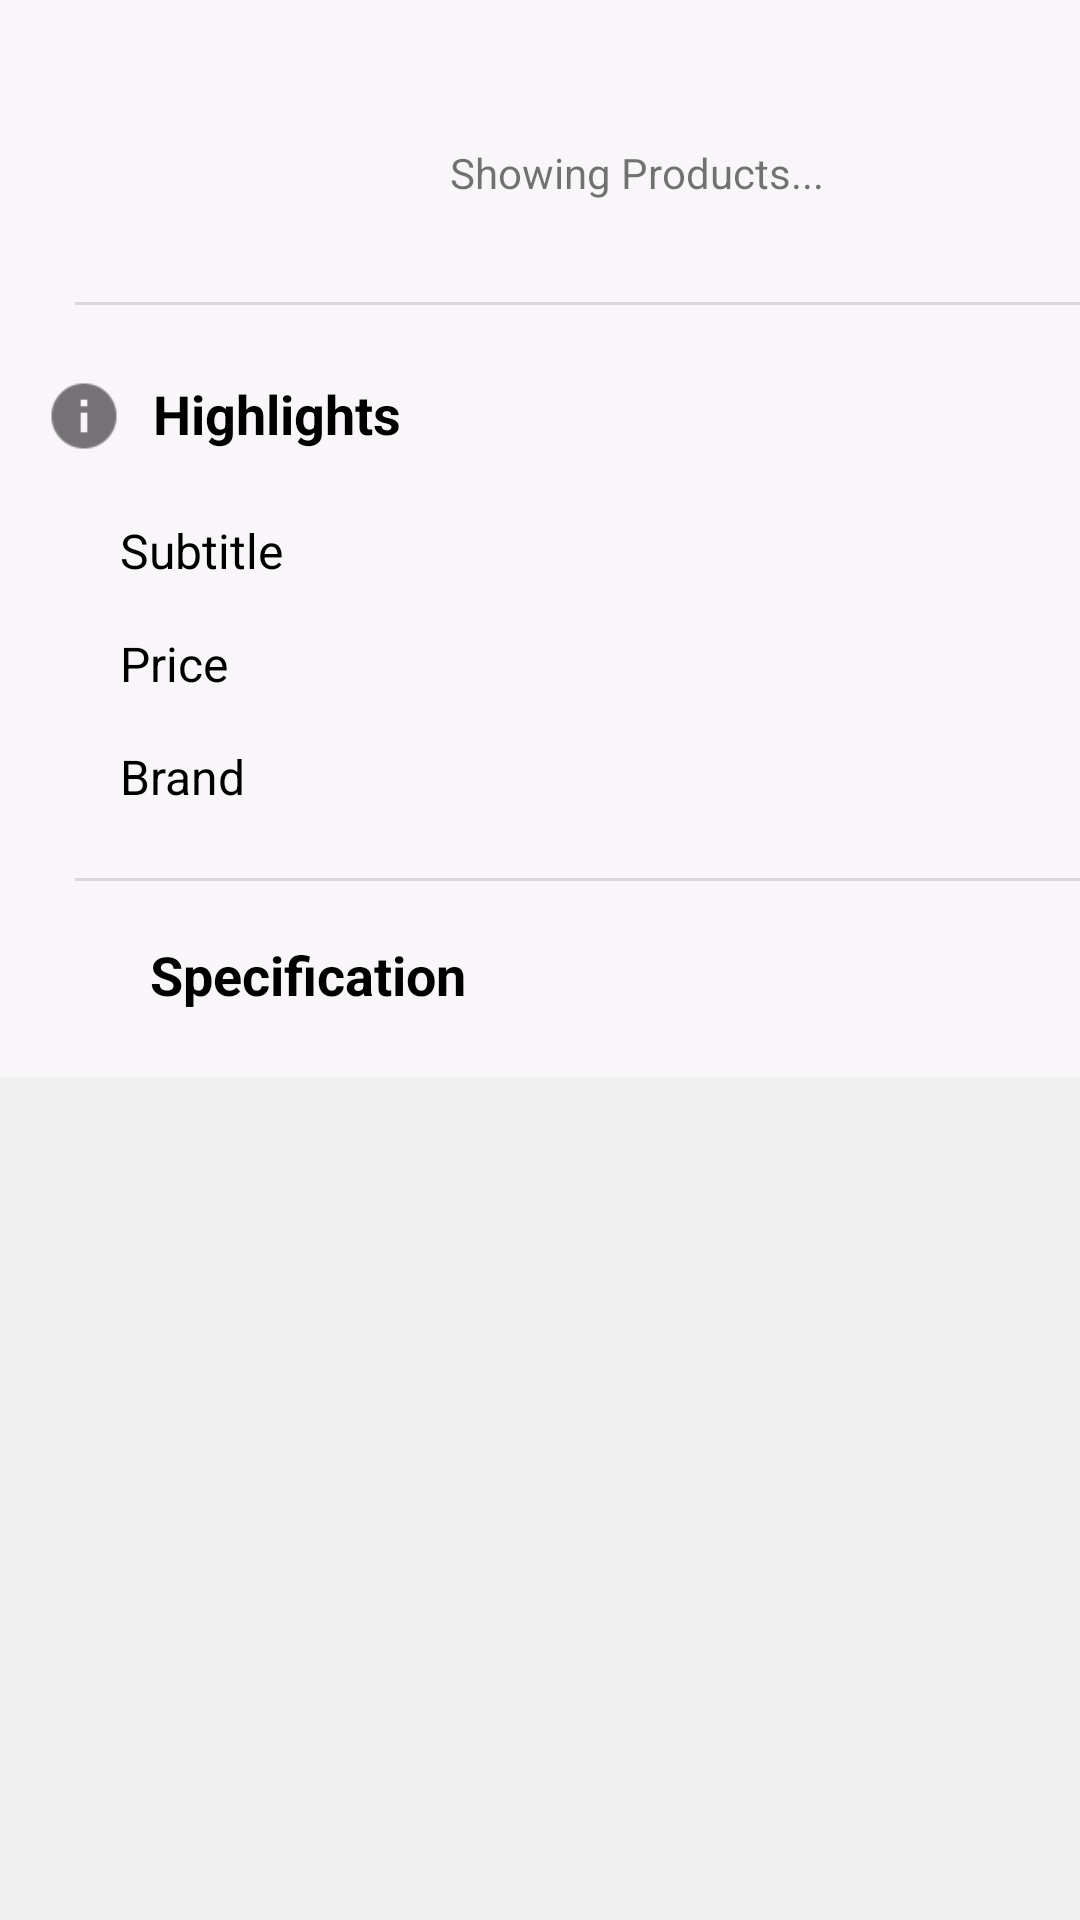

Icons on this 1080*1920 Android screen, each with the point to tap as [x,y]:
information: [84,416]
